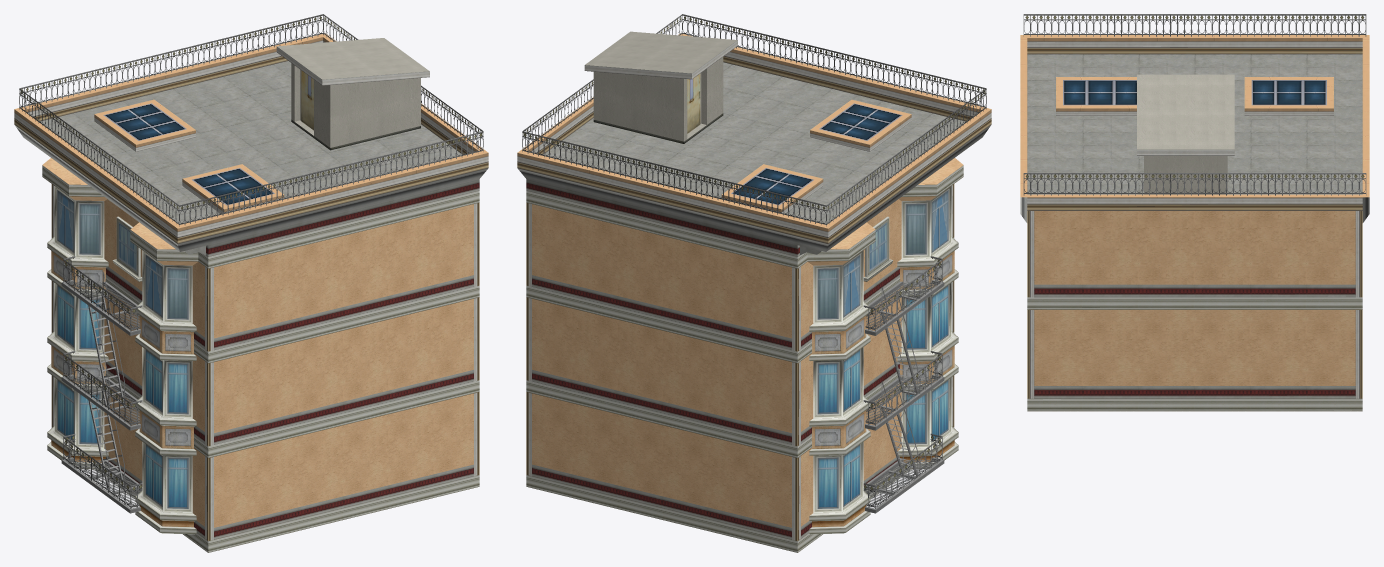
Rendered from MHouseA.fbx.
The picture shows the model from 3 angles, left to right: view 1: azimuth 30°, elevation 25°; view 2: azimuth 150°, elevation 25°; view 3: azimuth 270°, elevation 25°; orthographic projection. The views are drawn at different scales.
Visible parts, largest first — view 1: ct2_01_m1_ks2_MhouseA_05; view 2: ct2_01_m1_ks2_MhouseA_05; view 3: ct2_01_m1_ks2_MhouseA_05.
Part boxes in pixels (bbox=[...]): ct2_01_m1_ks2_MhouseA_05: bbox=[14, 14, 488, 552]; ct2_01_m1_ks2_MhouseA_05: bbox=[517, 14, 991, 552]; ct2_01_m1_ks2_MhouseA_05: bbox=[1020, 14, 1369, 411].
Bounding box in the file's own units: 1513 × 1837 × 1375.
